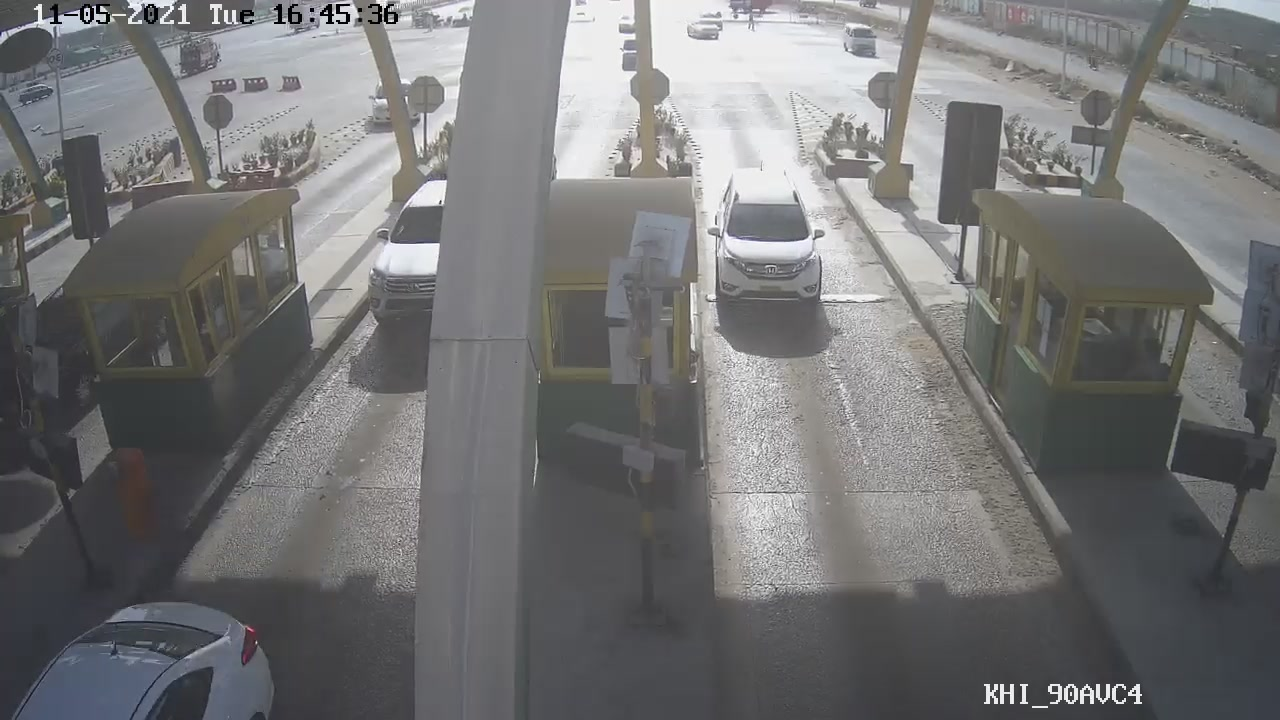F1: (700, 163, 840, 318)
